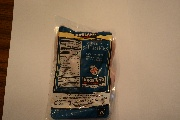chicken: (49, 15, 117, 120)
